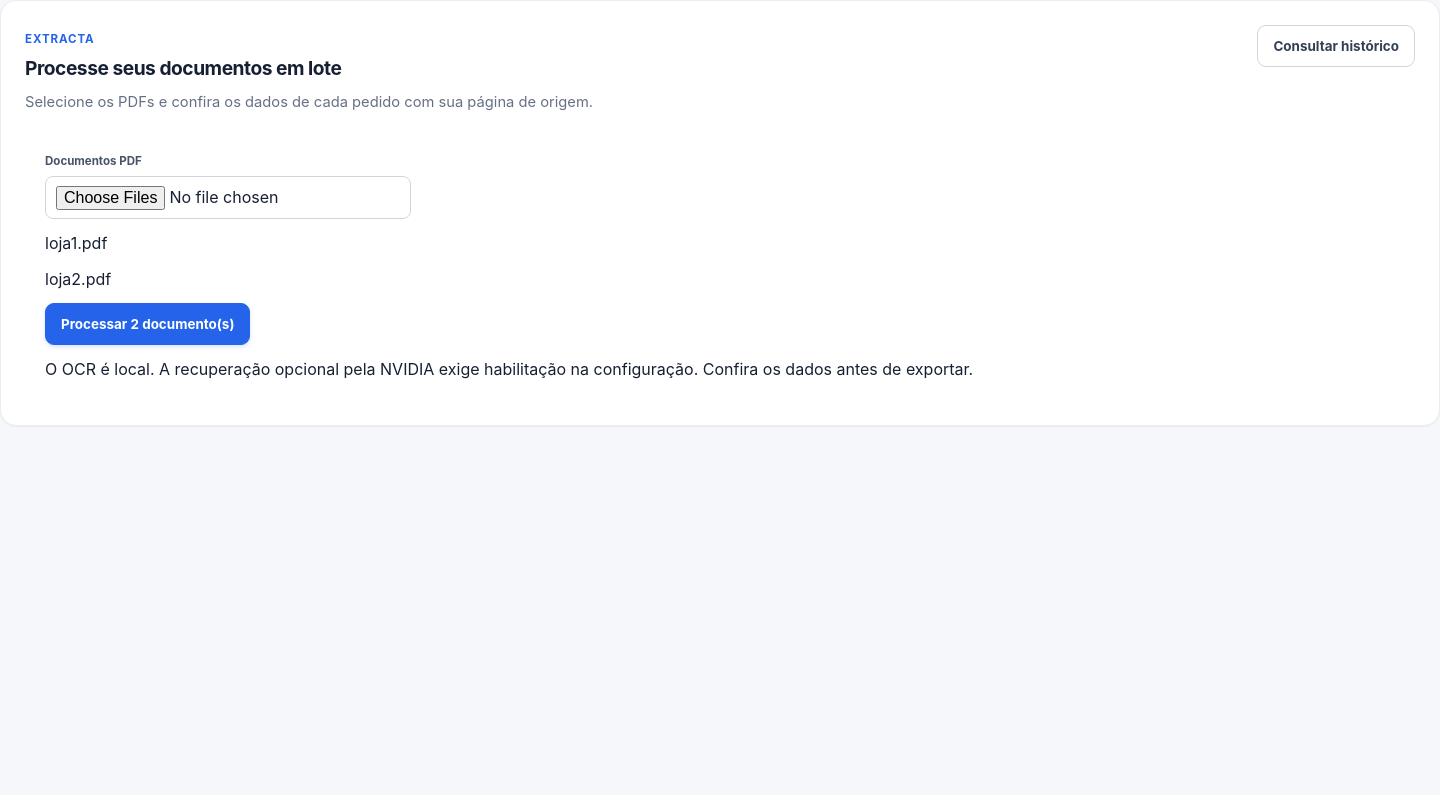
Test: Extracta › envia vários documentos e exibe os resultados individuais do lote
Earlier steps of the test are not shown.
Step 1. Click the button "Processar 2 documento(s)" → click(148, 324), box 45,303 -> 250,345
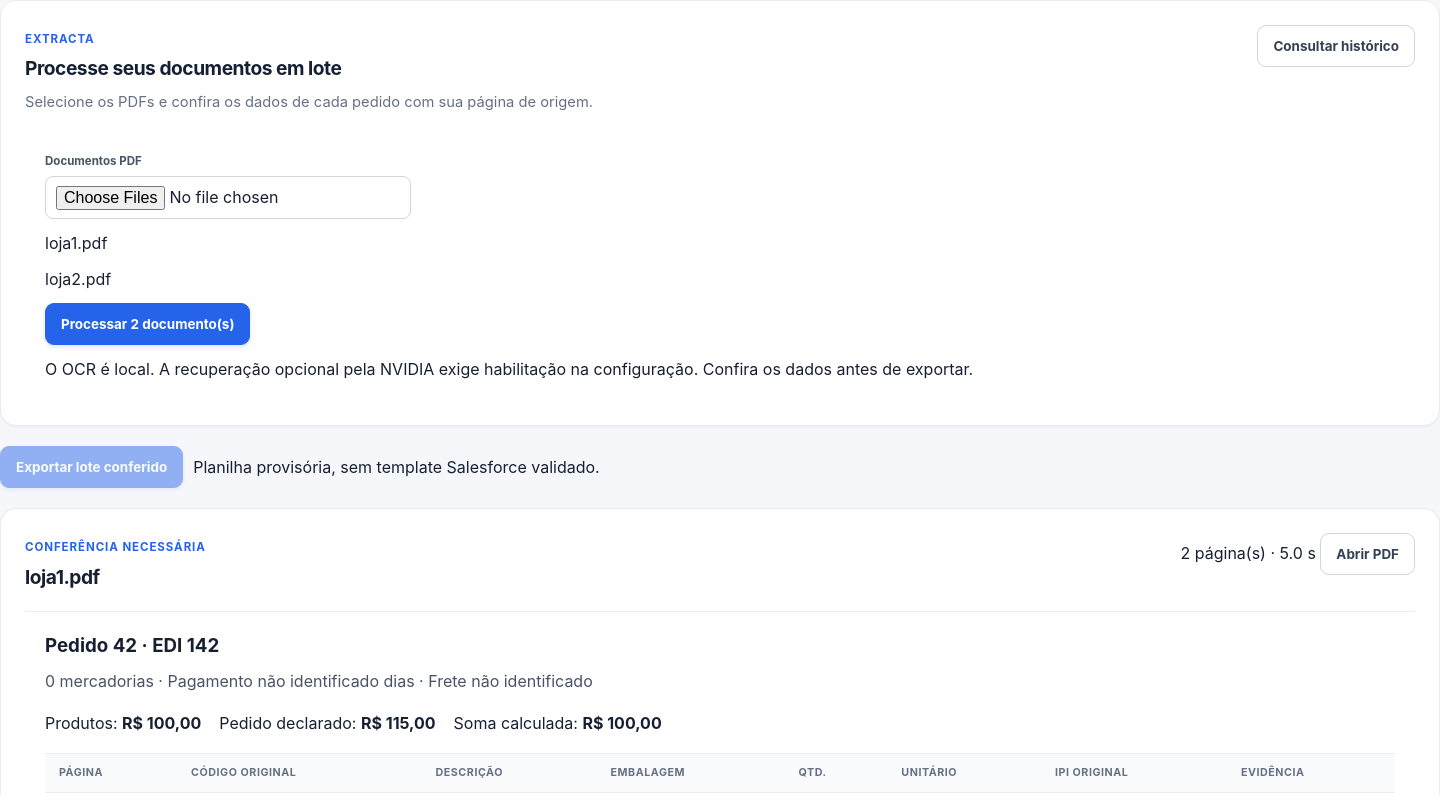
Result: the heading "Pedido 42 · EDI 142" is shown at 45,634 -> 219,658
Result: the text "R$ 115,00" is shown at 361,712 -> 436,732
